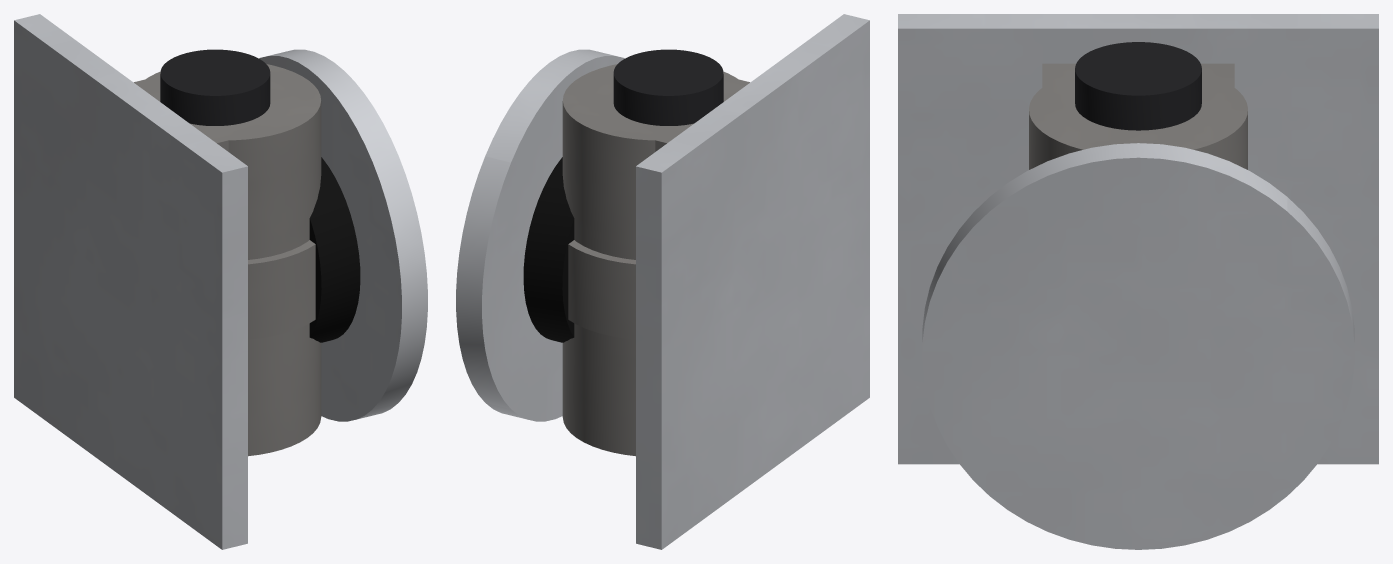
The model's file is rover18_steering_module_m.glb.
3 views of the same model, side by side, from view 1: azimuth 30°, elevation 25°; view 2: azimuth 150°, elevation 25°; view 3: azimuth 270°, elevation 25° (orthographic). The views are drawn at different scales.
Visible parts, largest first — view 1: mount_flange, slew_ring, half_b_flange, steer_motor, half_b_neck; view 2: mount_flange, slew_ring, half_b_flange, steer_motor, half_b_neck; view 3: half_b_flange, mount_flange, steer_motor, slew_ring, yoke.
Part boxes in pixels (x1,y1,x2,y2): mount_flange: (14, 14, 247, 549); slew_ring: (139, 64, 321, 456); half_b_flange: (259, 49, 427, 421); steer_motor: (160, 49, 270, 125); half_b_neck: (309, 157, 360, 342); mount_flange: (636, 14, 869, 549); slew_ring: (562, 64, 737, 456); half_b_flange: (456, 49, 624, 421); steer_motor: (613, 49, 723, 125); half_b_neck: (523, 157, 574, 342); half_b_flange: (922, 143, 1354, 549); mount_flange: (898, 14, 1378, 464); steer_motor: (1075, 42, 1201, 130); slew_ring: (1029, 76, 1247, 169); yoke: (1042, 63, 1234, 100).
Bounding box in the file's own units: 0.18 × 0.3 × 0.3.
4 materials, 2 textured.
